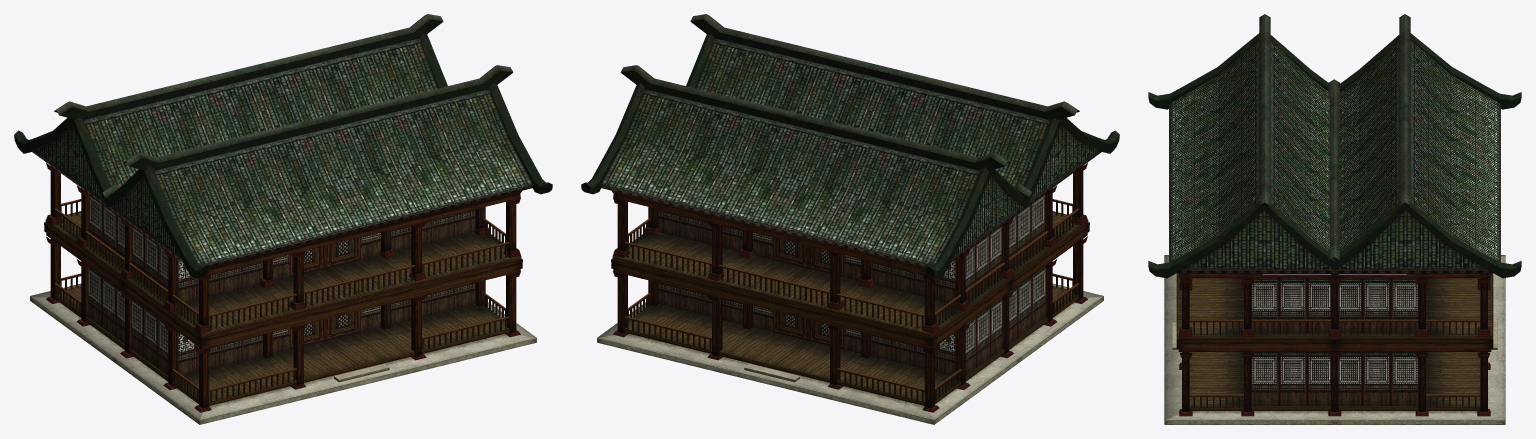
File: c1-033-guesthouse-01.glb
3 views of the same model, side by side, from view 1: azimuth 30°, elevation 25°; view 2: azimuth 150°, elevation 25°; view 3: azimuth 270°, elevation 25° (orthographic).
Parts seen in each view (by area): view 1: 033-01; view 2: 033-01; view 3: 033-01.
Boxes of the visible parts, x1,y1,x2,y2 form: 033-01: (14, 14, 552, 424); 033-01: (581, 14, 1119, 424); 033-01: (1148, 14, 1521, 424).
Bounding box in the file's own units: 21.33 × 12.64 × 17.86.
Materials: 2 (2 with a texture image).
